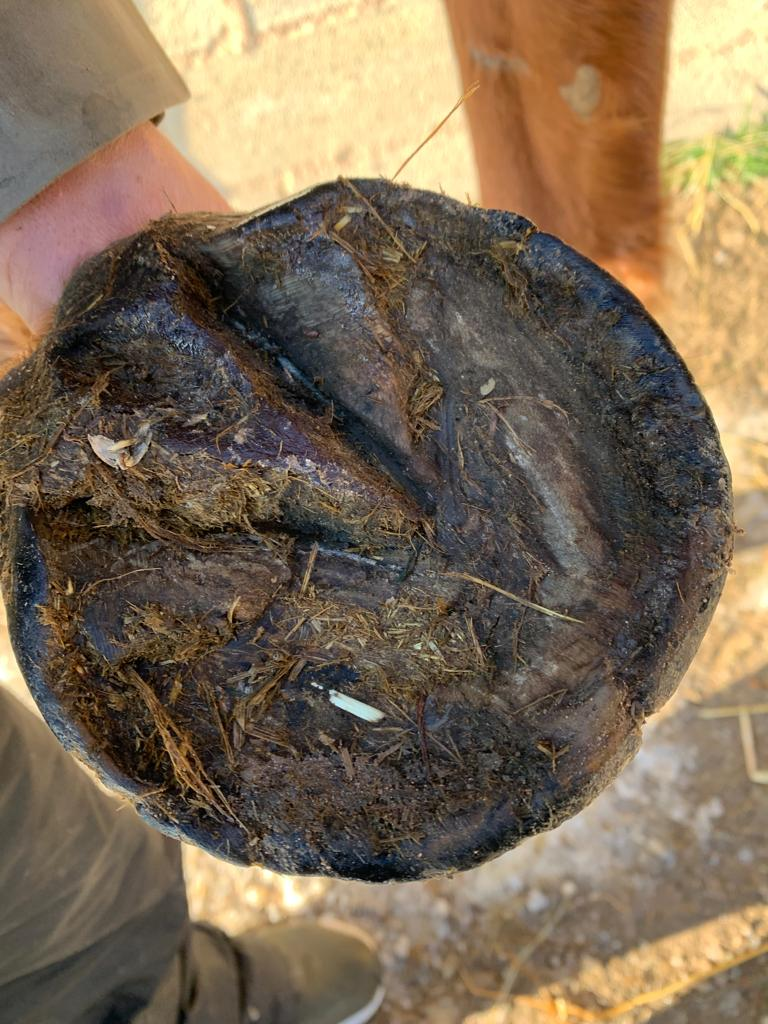horsesole: (8, 180, 735, 885)
